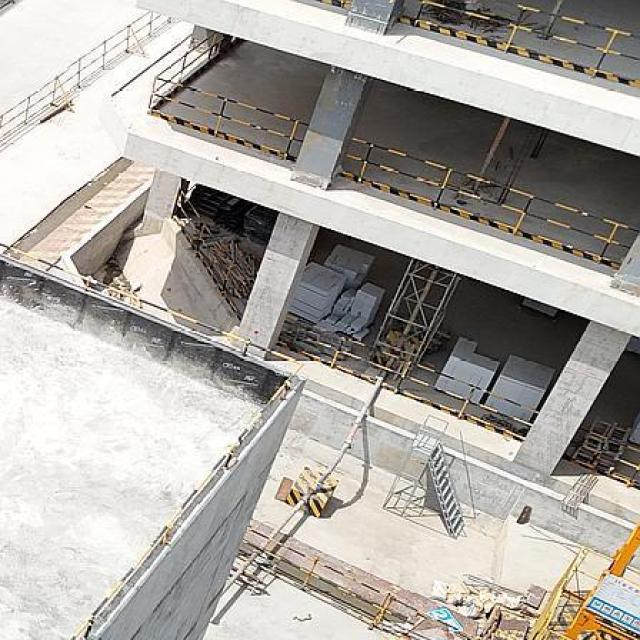edge_guardrail: (0, 241, 306, 640), (337, 136, 640, 267), (276, 314, 540, 441), (148, 31, 309, 156), (415, 0, 640, 70), (171, 188, 255, 322), (571, 426, 640, 485)
